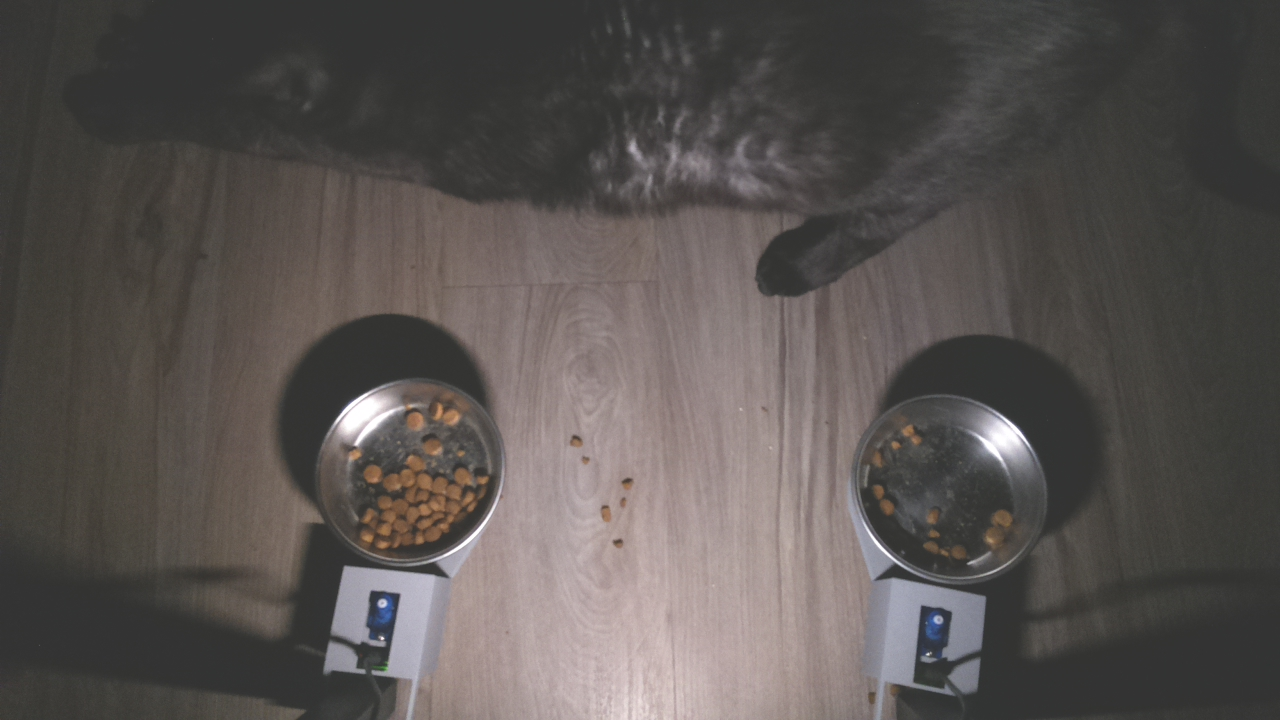open_bowl: (847, 391, 1051, 585), (311, 373, 504, 568)
